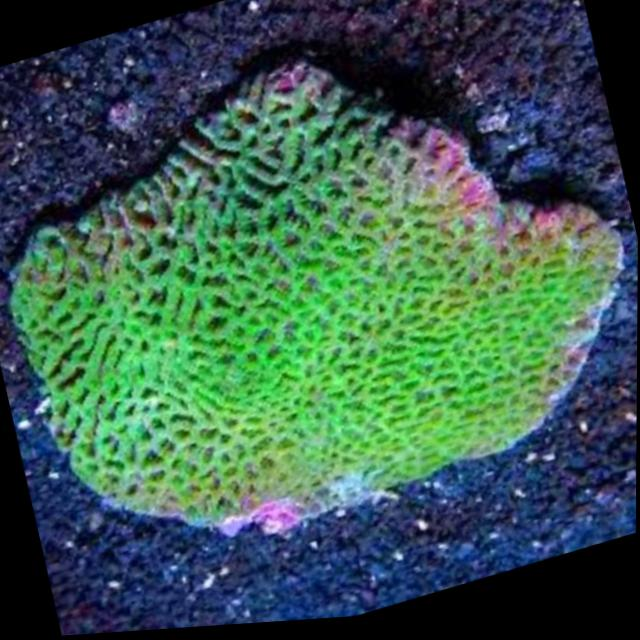Healthy Coral: (0, 26, 635, 605)
